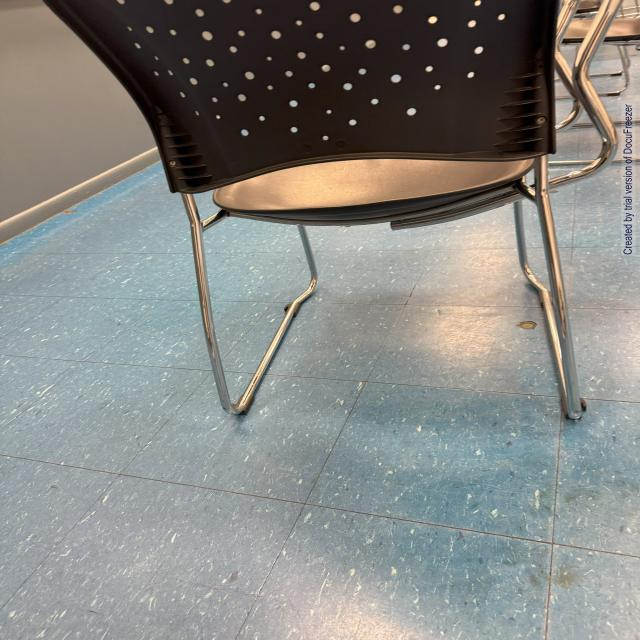chair: (36, 0, 632, 445)
